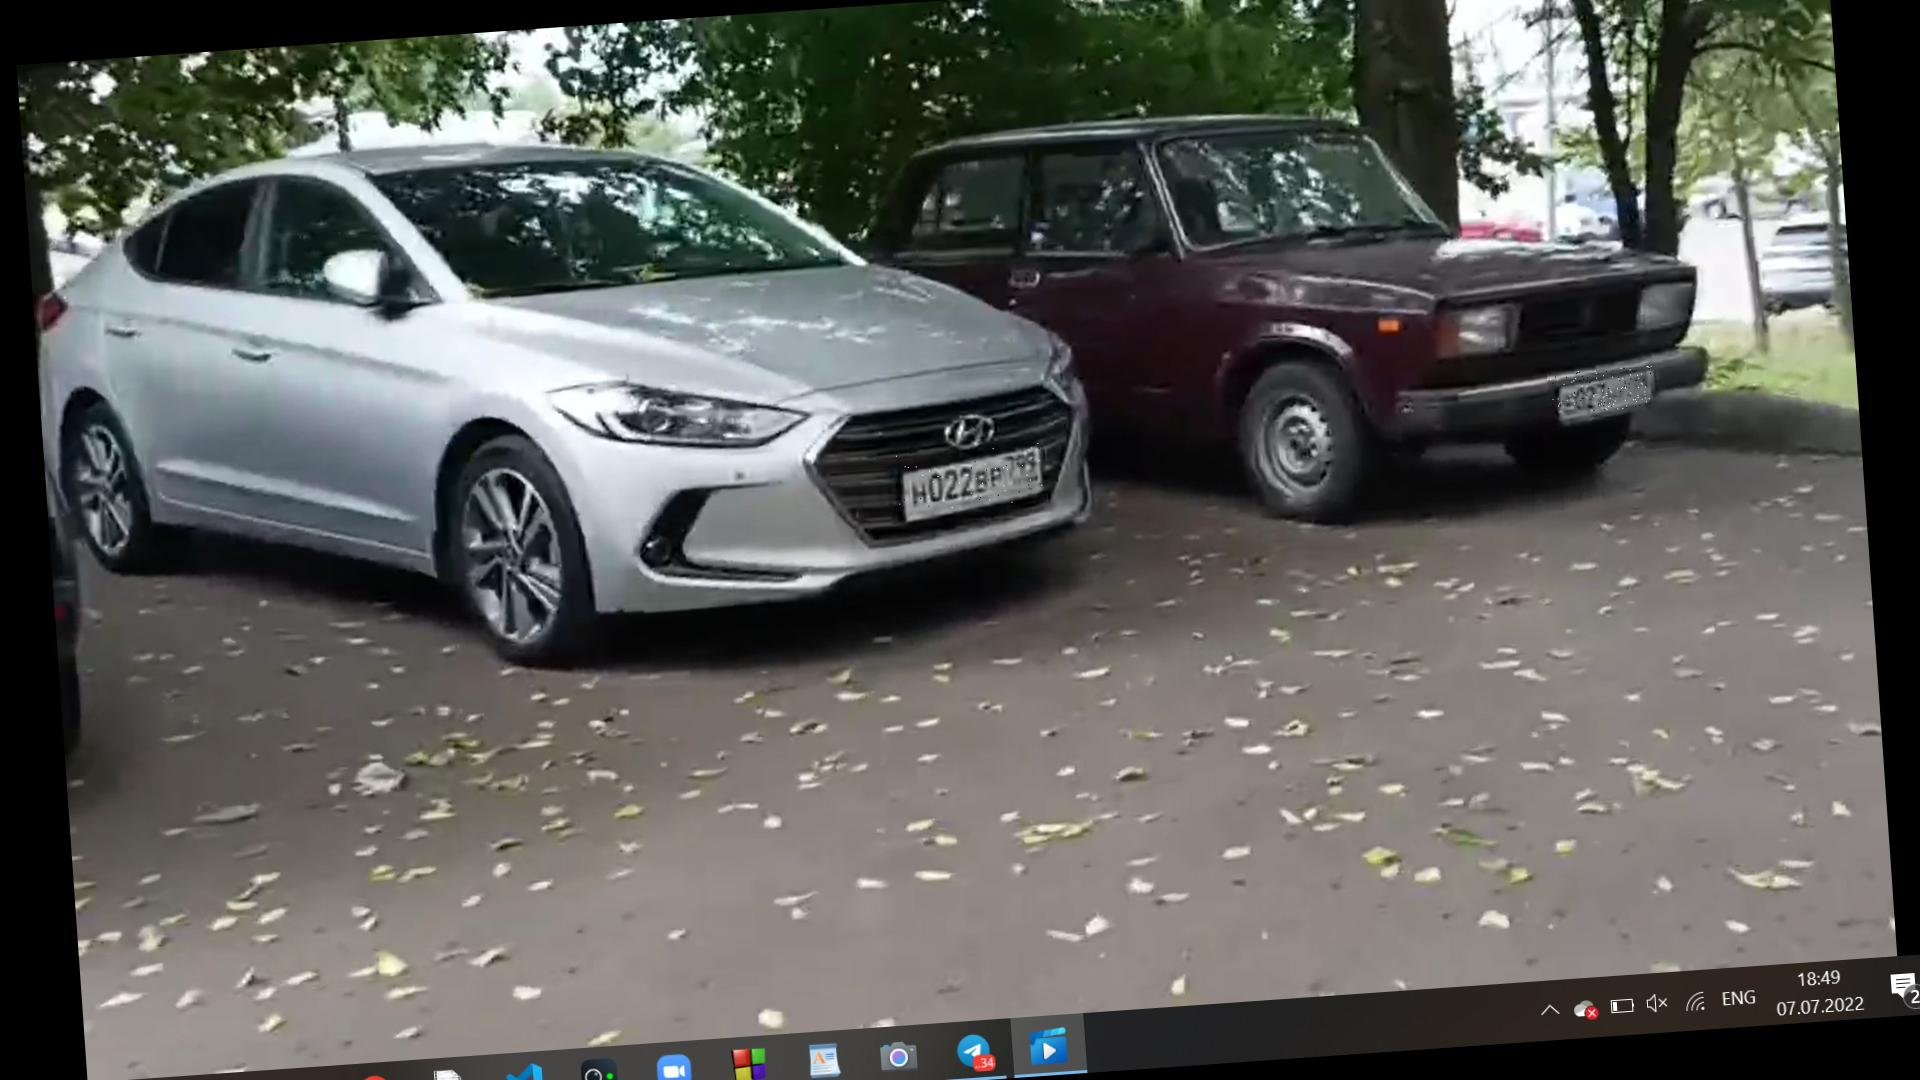plate: (896, 444, 1046, 515), (1549, 367, 1656, 415)
